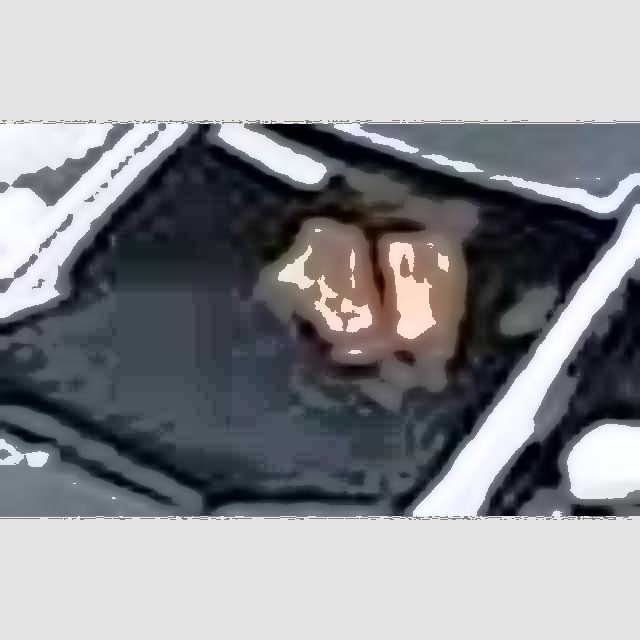pakai: (240, 189, 465, 386)
